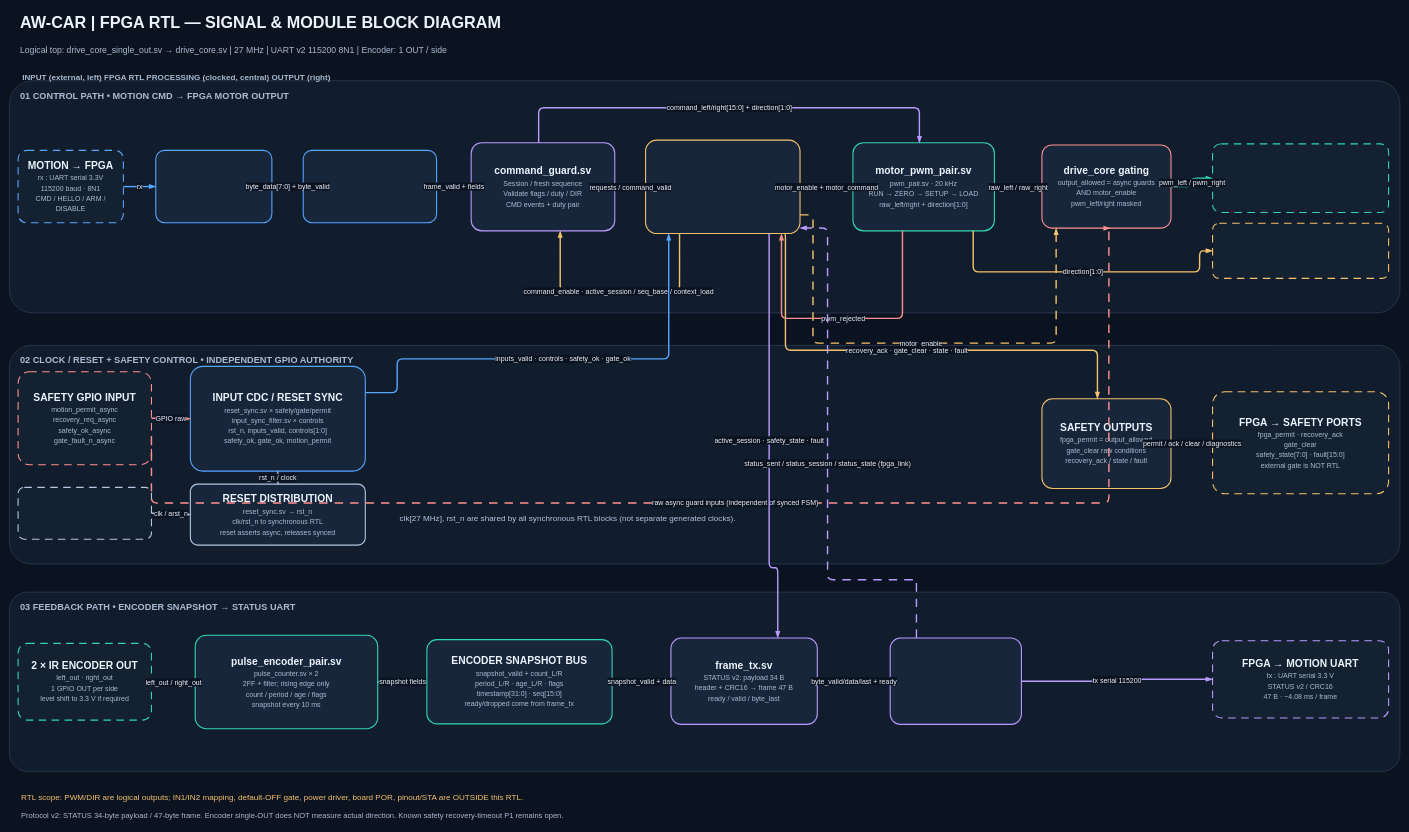
The diagram is 1409 pixels wide and 832 high, and some of its shapes have lost their labels. Here are the shapes that lost their labels. From the top down, the box of each, then its label:
(155, 150, 272, 223): uart_rx.sv 2FF sync + sample UART rx_byte[7:0] rx_valid / framing / break
(302, 150, 437, 223): frame_rx.sv Preamble / v2 / length CRC16 + timeouts frame_valid · frame_payload
(645, 139, 800, 234): safety_fsm.sv ARM / RECOVERY / FAULT Watchdog 50 ms motor_enable / motor_command
(1212, 143, 1389, 213): FPGA → ADAPTER / GATE pwm_left : 1 bit pwm_right : 1 bit 20 kHz · masked outputs
(1212, 222, 1389, 279): FPGA → ADAPTER direction[1:0] · left/right DIR is NOT masked with PWM
(17, 487, 152, 539): CLOCK / RESET INPUT clk 27 MHz · arst_n active-LOW
(889, 637, 1022, 725): uart_tx.sv UART 115200 8N1 byte_data / byte_ready tx_done after final stop bit
